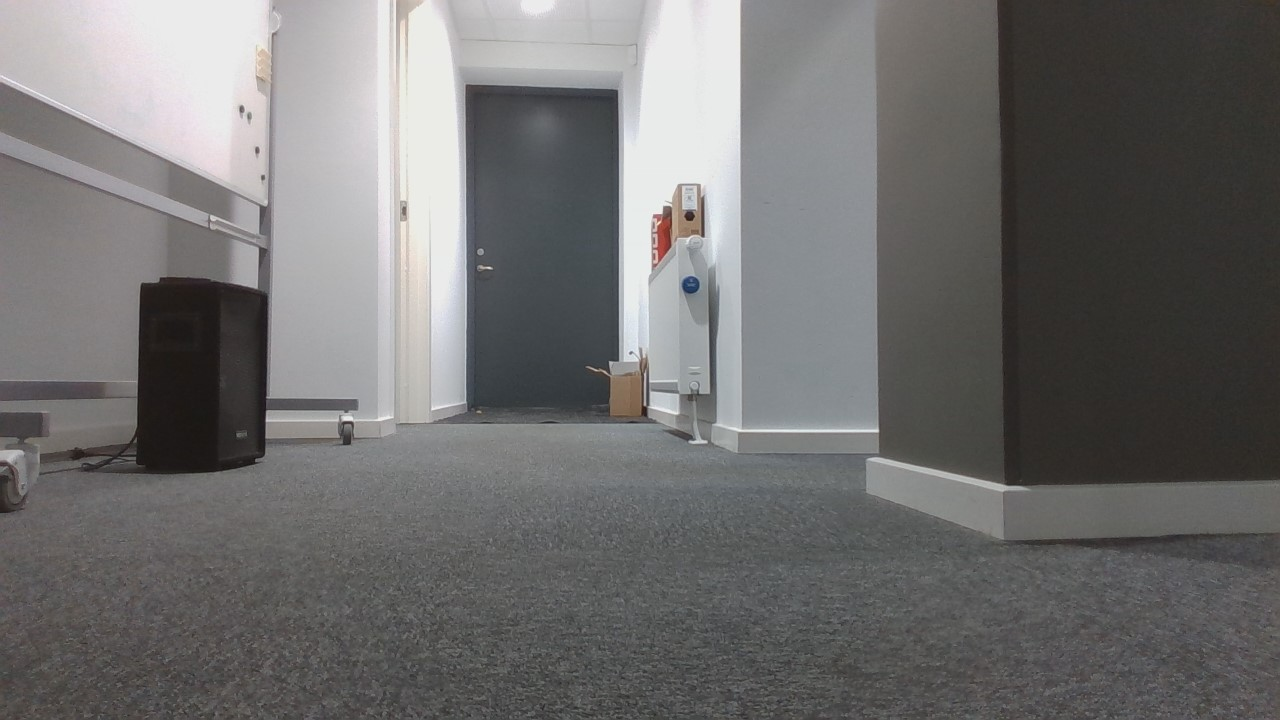alfa: (680, 273, 702, 297)
